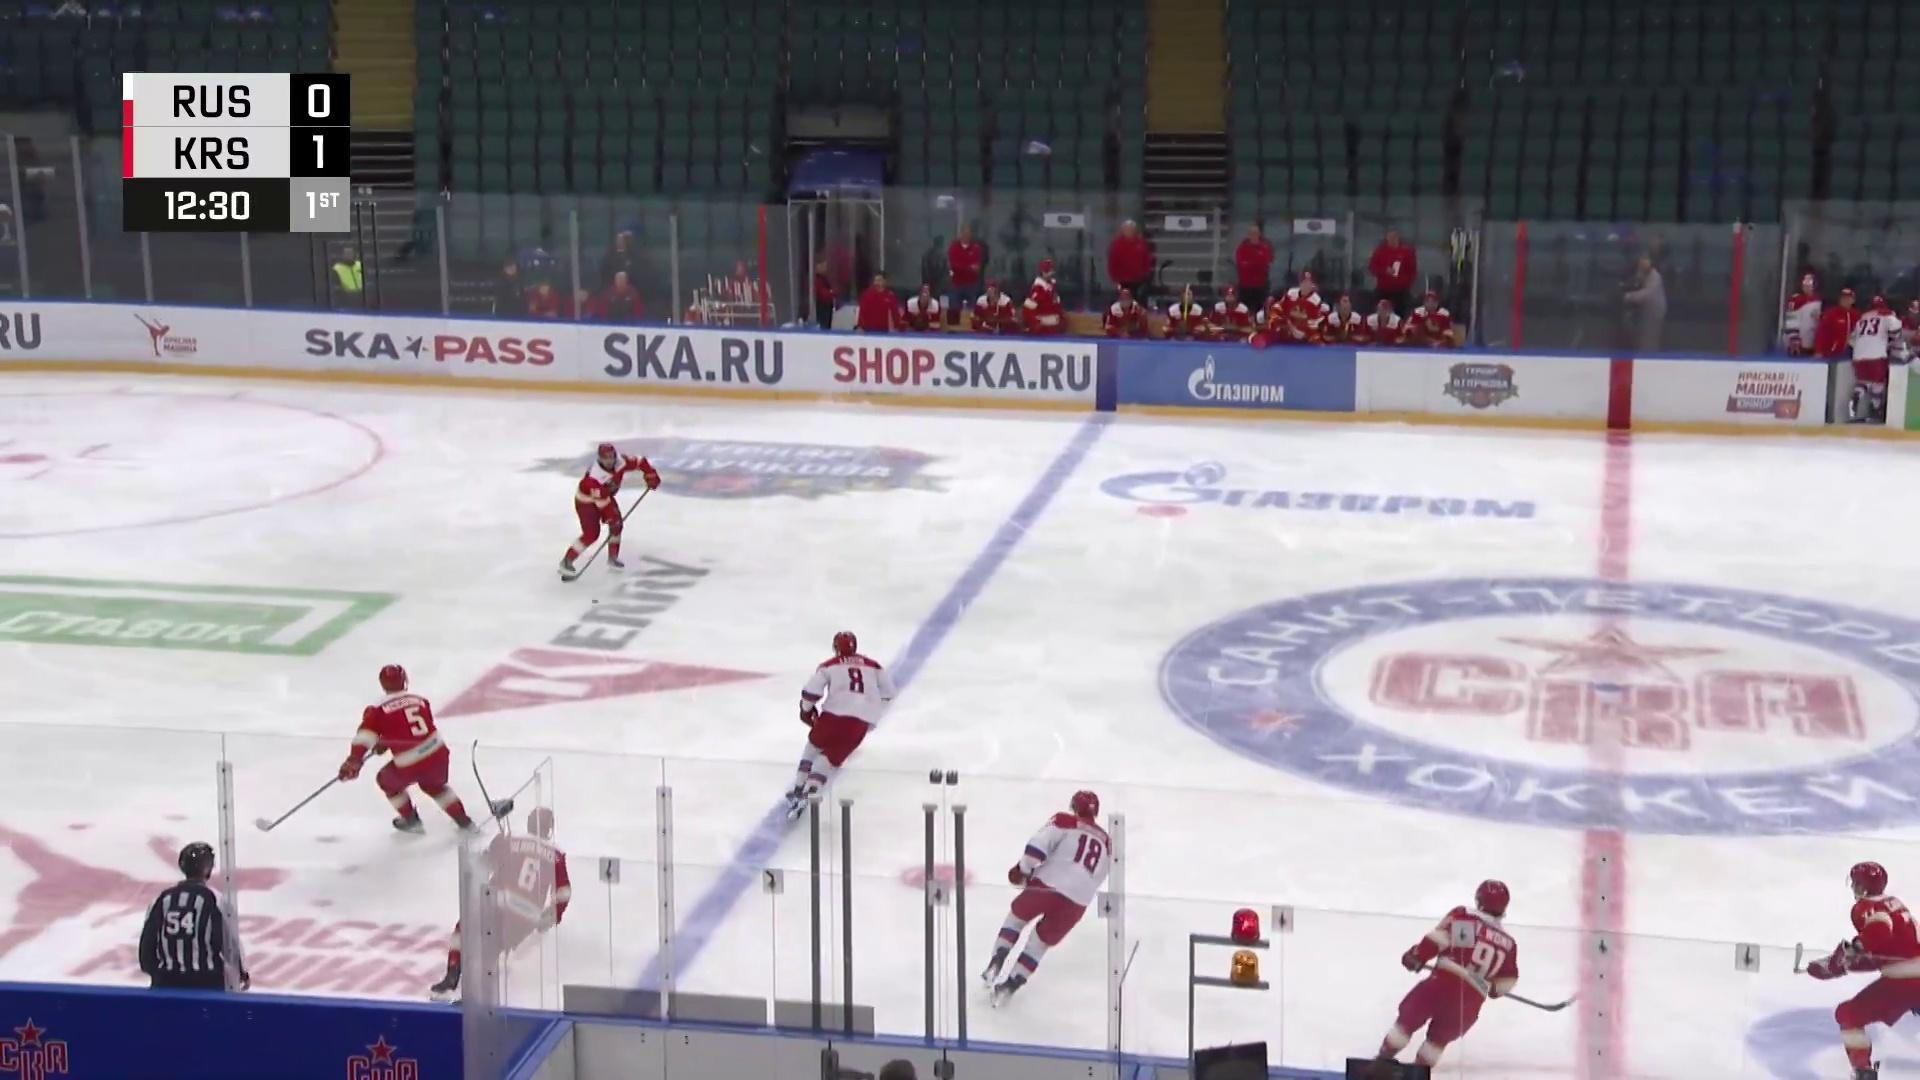ball: (591, 597, 600, 607)
